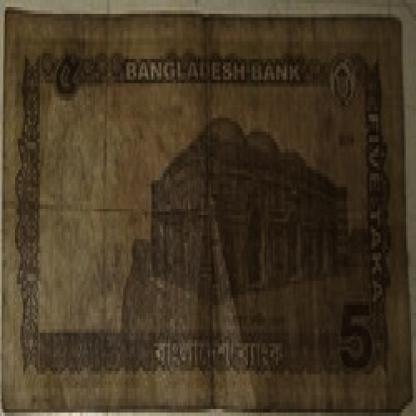Five Taka: (361, 97, 391, 309), (340, 292, 376, 375), (53, 49, 80, 104)
